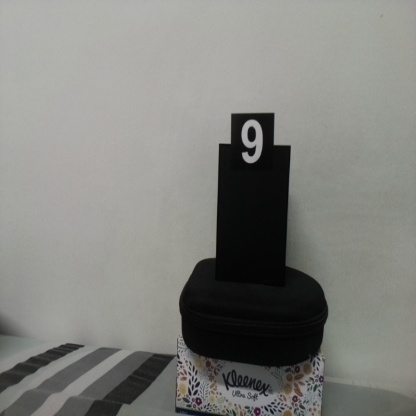id_9: (231, 112, 274, 187)
